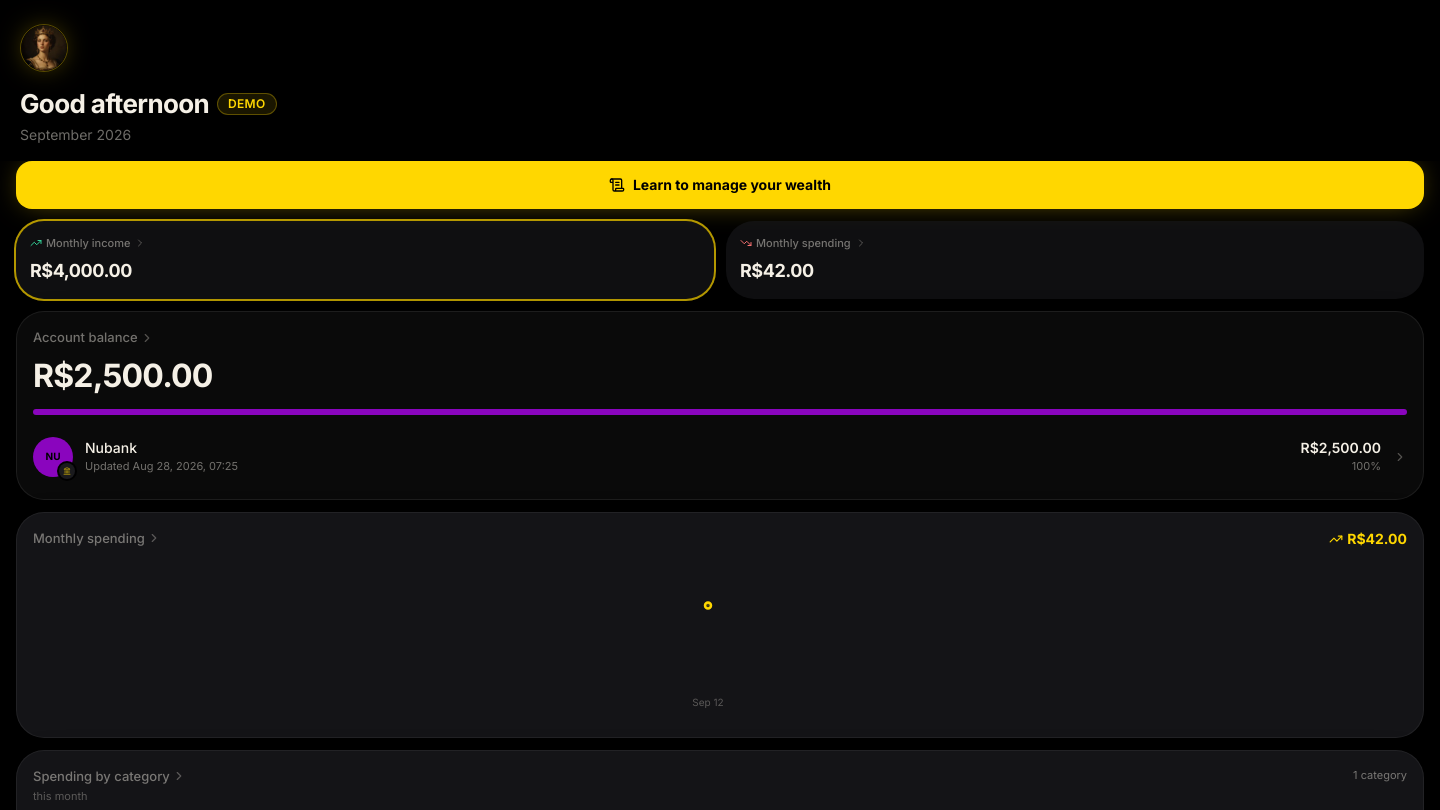
Test: FigureDetailSheet › opens income from a key press and reuses the transaction sheet
The image size is (1440, 810).
Press Enter
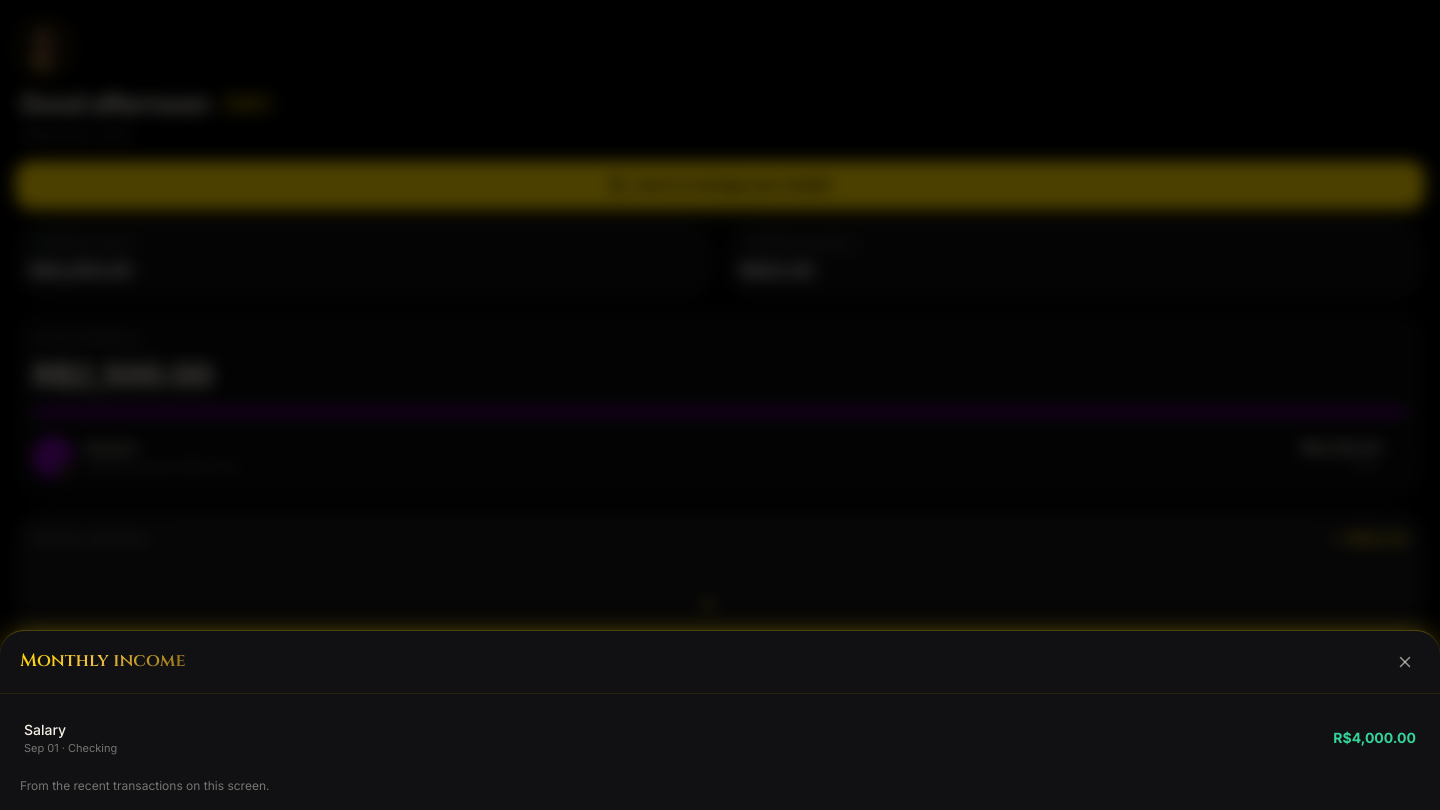
Now the button "Salary Sep 01 · Checking R$4,000.00" is shown
Now the text "From the recent transactions on this screen." is shown, box [20,778,270,793]
Click the button "Salary Sep 01 · Checking R$4,000.00" at (45, 729), box [20,710,1420,766]
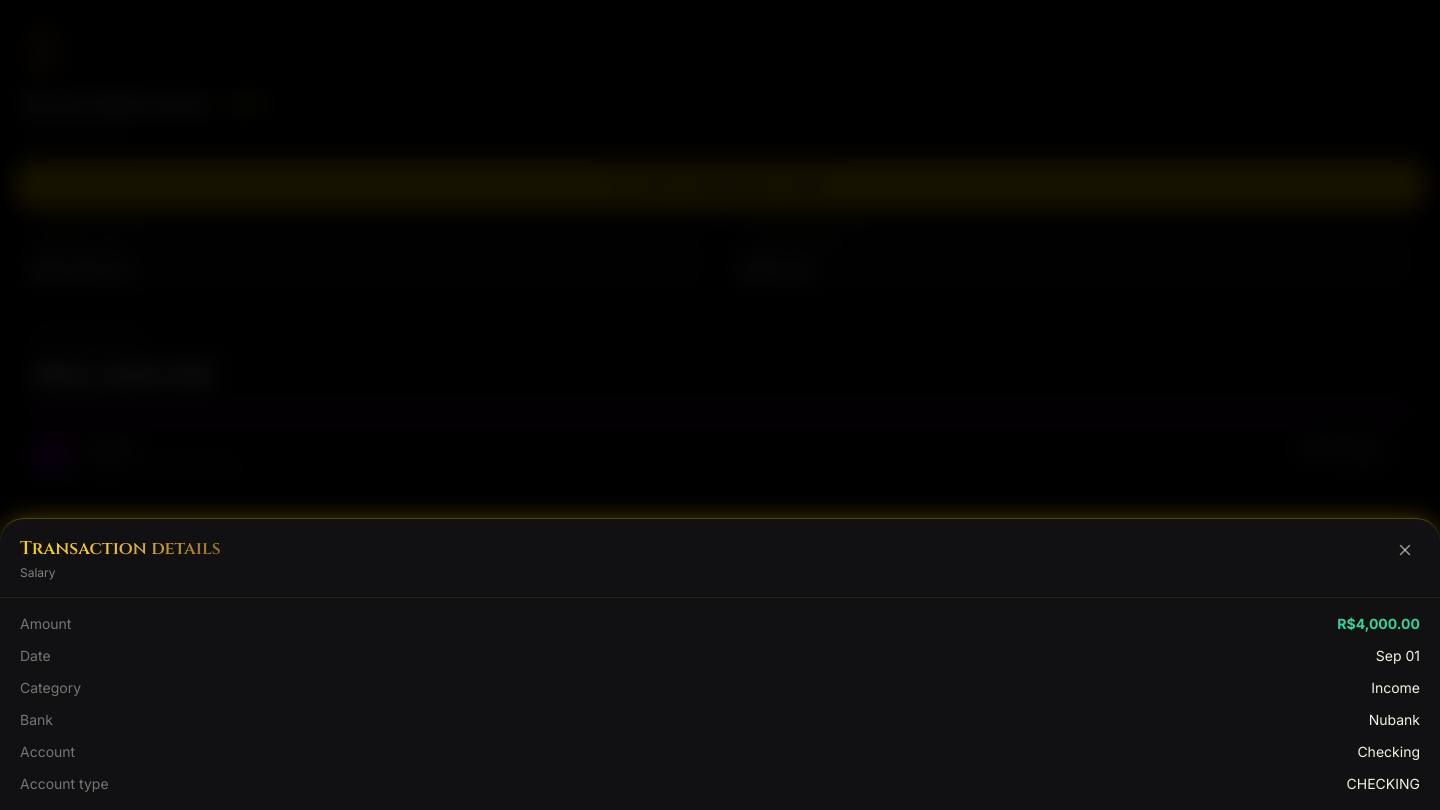
Now the text "CHECKING" is shown, box [1347,774,1420,794]
